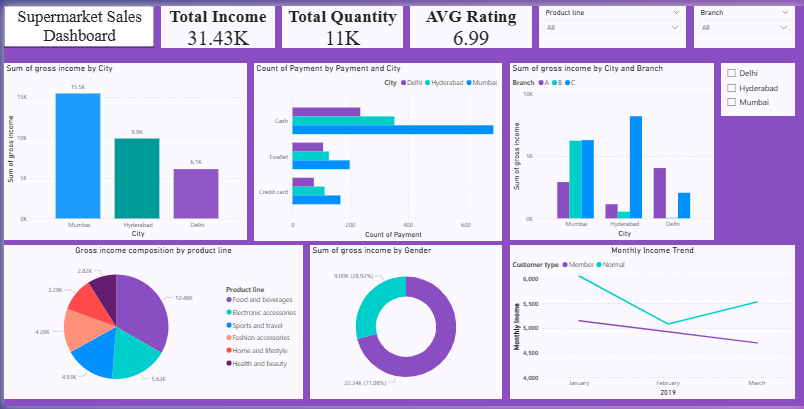

Layout of this report page (visuals, bound fields, positions):
{"tool":"powerbi","page":{"name":"Realmart sales report","canvas":[1600,800],"ordinal":0},"visuals":[{"type":"textbox","title":"Supermarket Sales Dashboard","box":[0,0,300,84],"z":0},{"type":"card","title":"Total Income","fields":{"Values":["Sum(Realmart Sales Dataset.gross income)"]},"box":[314,0,228,84],"z":1000},{"type":"card","title":"Total Quantity ","fields":{"Values":["Sum(Realmart Sales Dataset.Quantity)"]},"box":[556,0,242,84],"z":2000},{"type":"card","title":"AVG Rating","fields":{"Values":["Avg(Realmart Sales Dataset.Rating)"]},"box":[812,0,244,84],"z":3000},{"type":"columnChart","fields":{"Category":["Realmart Sales Dataset.City"],"Y":["Sum(Realmart Sales Dataset.gross income)"]},"box":[0,114,486,354],"z":4000},{"type":"clusteredBarChart","fields":{"Category":["Realmart Sales Dataset.Payment"],"Y":["CountNonNull(Realmart Sales Dataset.Payment)"],"Series":["Realmart Sales Dataset.City"]},"box":[500,114,496,356],"z":5000},{"type":"lineChart","title":"Monthly Income Trend","fields":{"Category":["Realmart Sales Dataset.Date.Variation.Date Hierarchy.Month"],"Y":["Sum(Realmart Sales Dataset.gross income)"],"Series":["Realmart Sales Dataset.Customer type"]},"box":[1012,478,570,308],"z":6000},{"type":"pieChart","title":"Gross income composition by product line","fields":{"Category":["Realmart Sales Dataset.Product line"],"Y":["Sum(Realmart Sales Dataset.gross income)"]},"box":[0,478,598,308],"z":7000},{"type":"donutChart","fields":{"Category":["Realmart Sales Dataset.Gender"],"Y":["Sum(Realmart Sales Dataset.gross income)"]},"box":[612,478,384,308],"z":8000},{"type":"slicer","fields":{"Values":["Realmart Sales Dataset.City"]},"box":[1434,114,148,106],"z":9000},{"type":"slicer","fields":{"Values":["Realmart Sales Dataset.Product line"]},"box":[1070,0,294,84],"z":10000},{"type":"clusteredColumnChart","fields":{"Category":["Realmart Sales Dataset.City"],"Y":["Sum(Realmart Sales Dataset.gross income)"],"Series":["Realmart Sales Dataset.Branch"]},"box":[1012,114,408,354],"z":11000},{"type":"slicer","fields":{"Values":["Realmart Sales Dataset.Branch"]},"box":[1380,0,202,84],"z":12000}]}

Visuals, with their boxes in screenshot pixels (x1, y1, x2, y2), scaled from the page's 1600x800 canvas onto the 804x409 screenshot:
"Supermarket Sales Dashboard" textbox: rect(0, 0, 151, 43)
"Total Income" card: rect(158, 0, 272, 43)
"Total Quantity " card: rect(279, 0, 401, 43)
"AVG Rating" card: rect(408, 0, 531, 43)
columnChart - Realmart Sales Dataset.City x Sum(Realmart Sales Dataset.gross income): rect(0, 58, 244, 239)
clusteredBarChart - Realmart Sales Dataset.Payment x CountNonNull(Realmart Sales Dataset.Payment): rect(251, 58, 500, 240)
"Monthly Income Trend" lineChart: rect(509, 244, 795, 402)
"Gross income composition by product line" pieChart: rect(0, 244, 300, 402)
donutChart - Realmart Sales Dataset.Gender x Sum(Realmart Sales Dataset.gross income): rect(308, 244, 500, 402)
slicer - Realmart Sales Dataset.City: rect(721, 58, 795, 112)
slicer - Realmart Sales Dataset.Product line: rect(538, 0, 685, 43)
clusteredColumnChart - Realmart Sales Dataset.City x Sum(Realmart Sales Dataset.gross income): rect(509, 58, 714, 239)
slicer - Realmart Sales Dataset.Branch: rect(693, 0, 795, 43)
